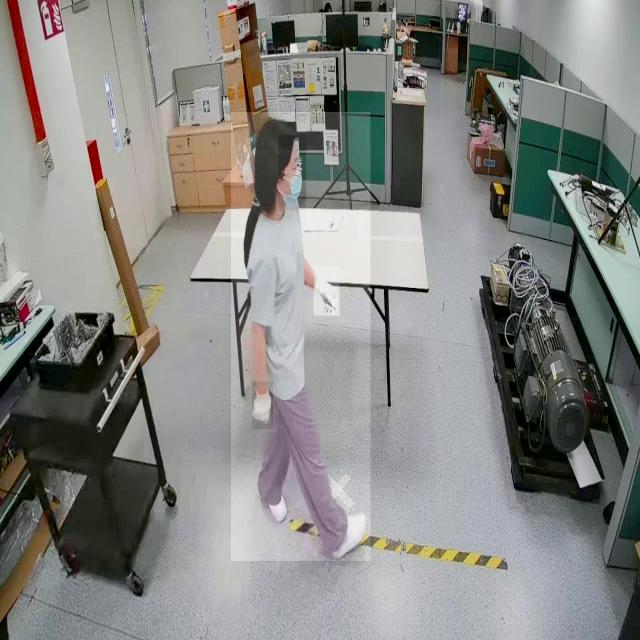face_mask: (278, 135, 306, 211)
hand_glove: (314, 266, 339, 316), (252, 382, 274, 431)
head_nohelmet: (256, 117, 296, 151)
person: (231, 112, 371, 562)
shoes: (324, 503, 370, 563), (257, 474, 295, 528)
